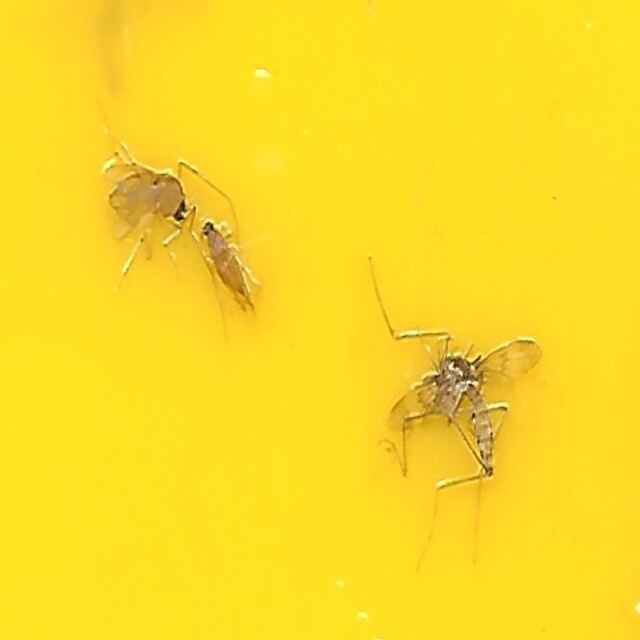Nematocera: (383, 330, 543, 495), (97, 145, 190, 265)
Trichoptera: (199, 214, 259, 327)
